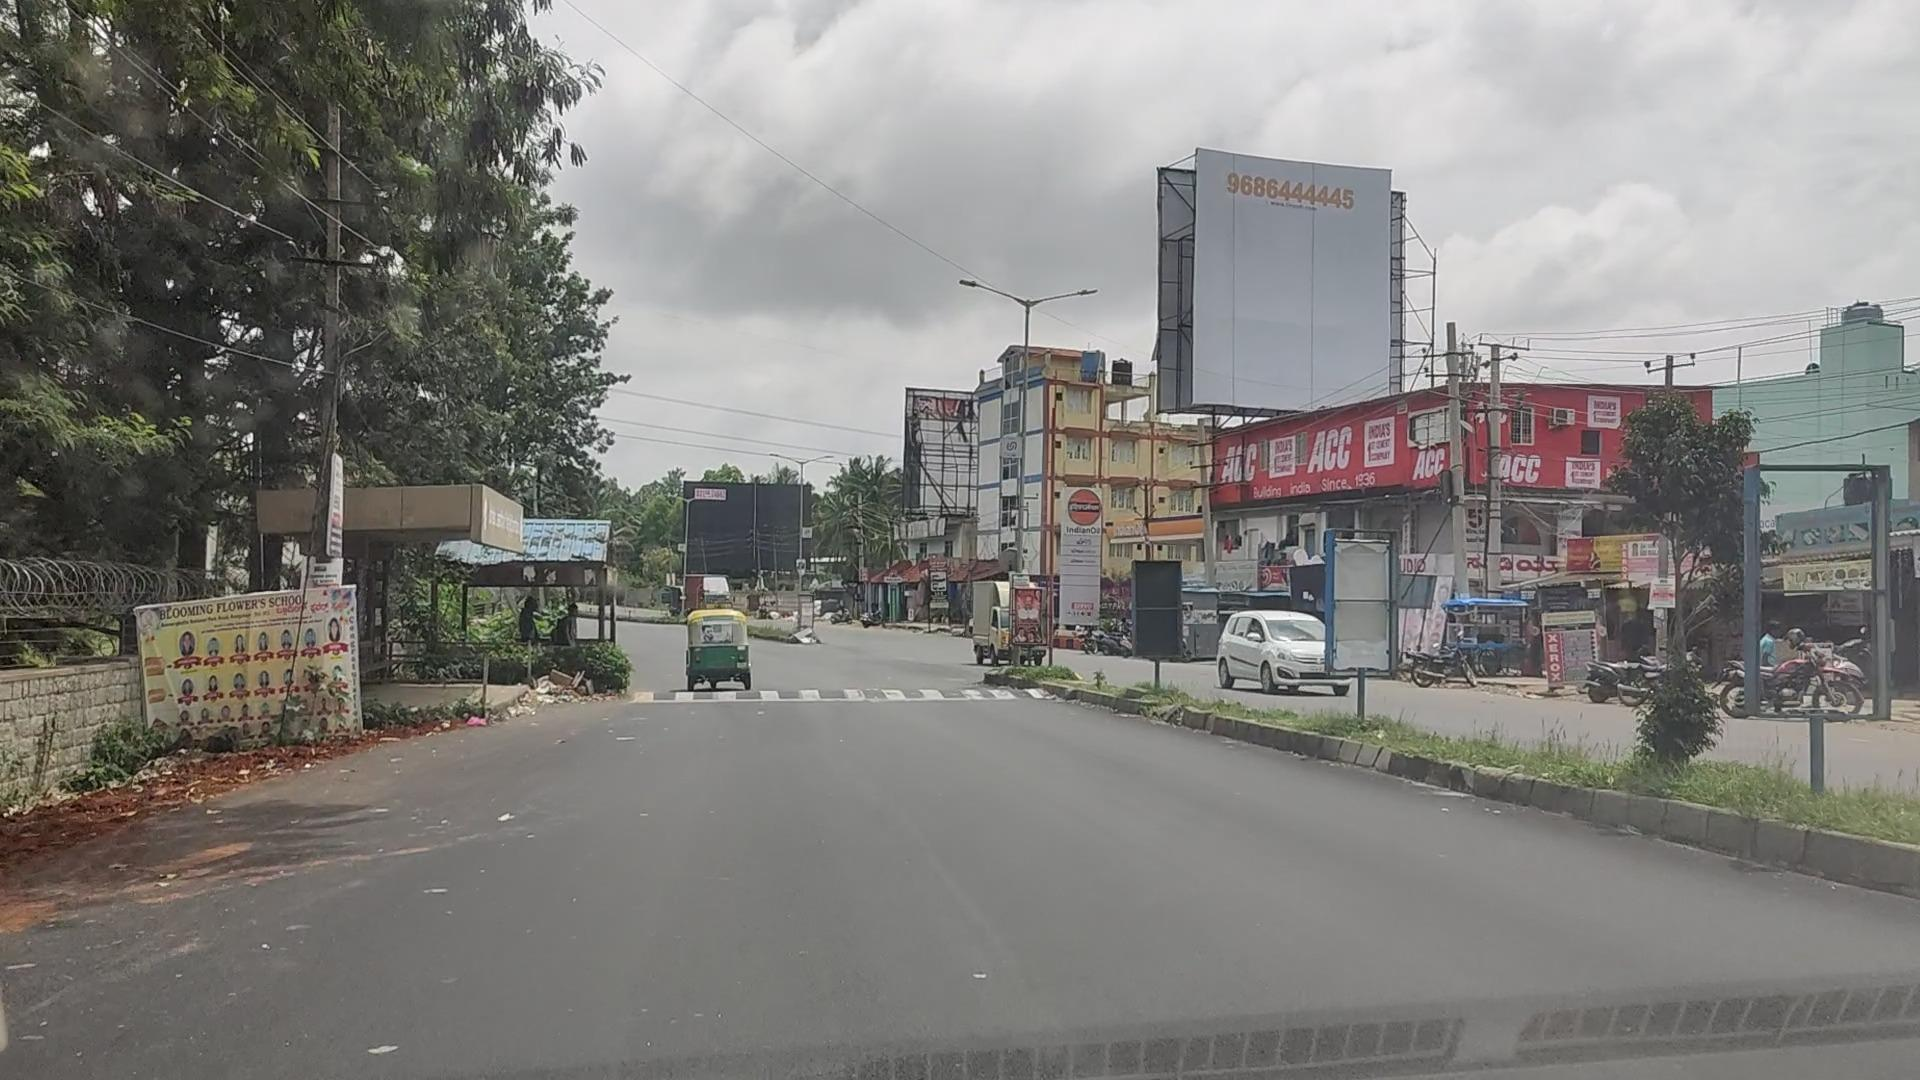LMV: (690, 611, 752, 686)
SpeedBump: (644, 682, 1054, 707)
